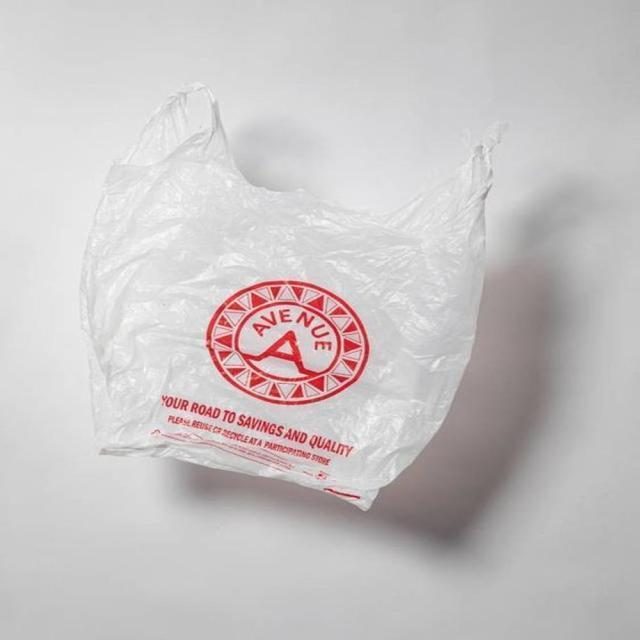Plastic_Bag: (72, 89, 484, 518)
